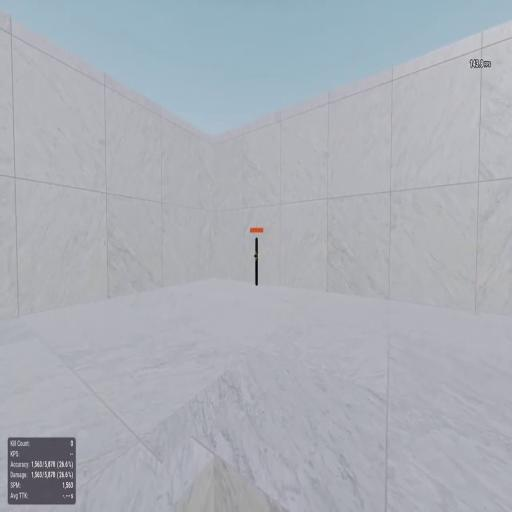Crosshair: (253, 252, 259, 260)
Target: (255, 235, 259, 288)
